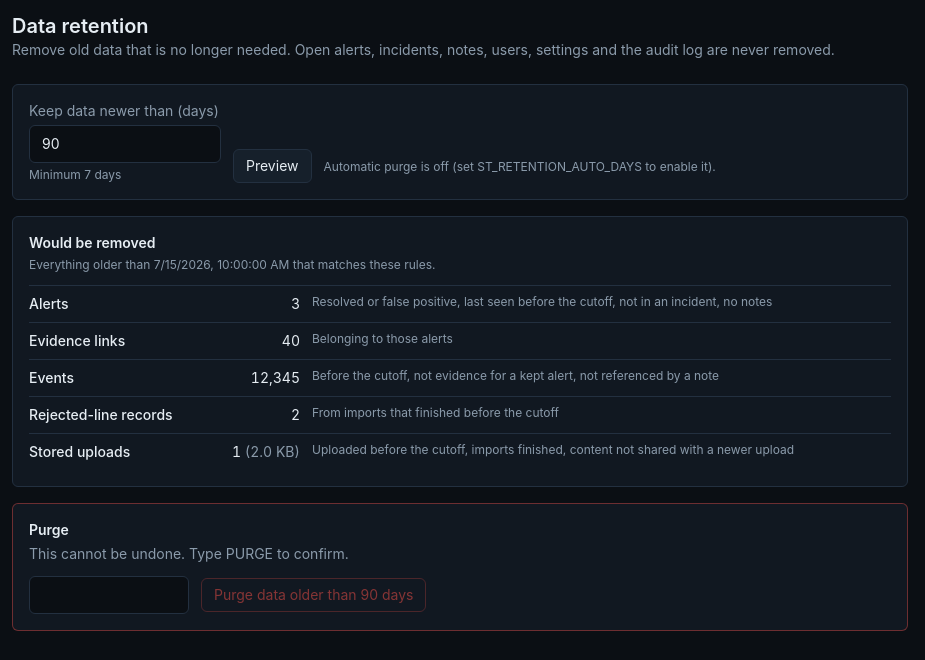
it: RetentionPage › previews and purges only after typing PURGE
Expected: the row that starts with "Events" is shown, [29,360,891,396]
Expected: the text "(2.0 KB)" is shown, [241,443,300,460]
Replace the text in the number field labelled "Keep data newer than (days) Minimum 7 days" with "30": [125, 144] box [29,125,221,163]
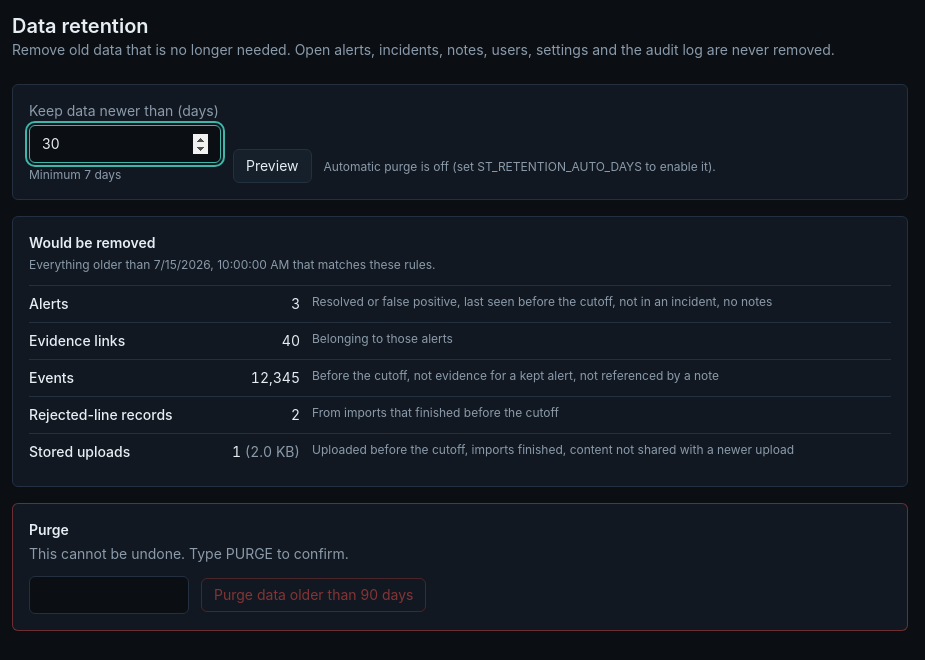
Click the button "Preview": [272, 166] box [233,149,312,183]
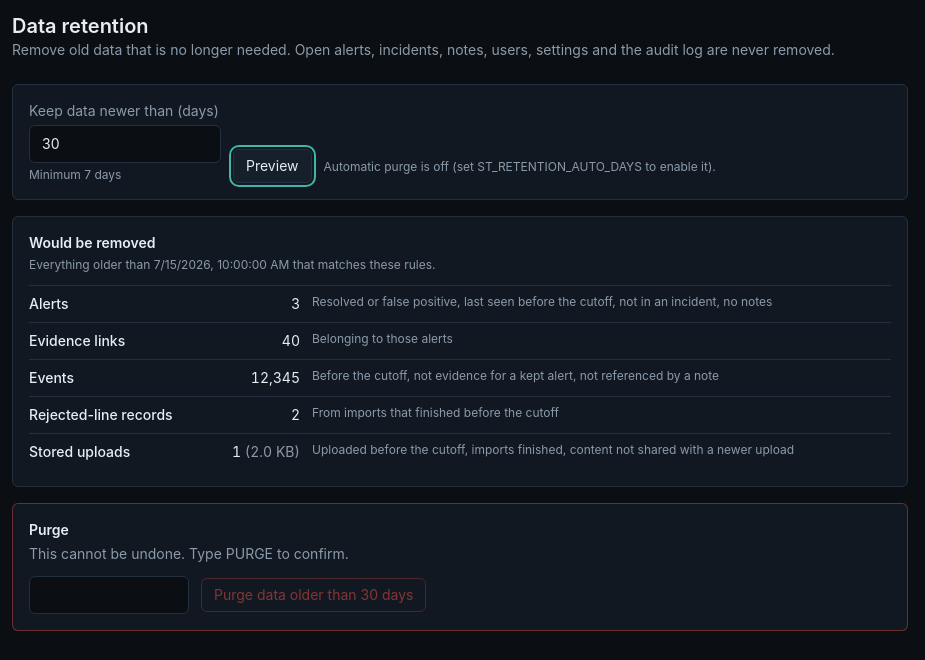
Expected: the button "Purge data older than 30 days" is disabled, [201,578,426,612]
In the field named "Type PURGE to confirm": [109, 595] box [29,576,189,614], type "purge"
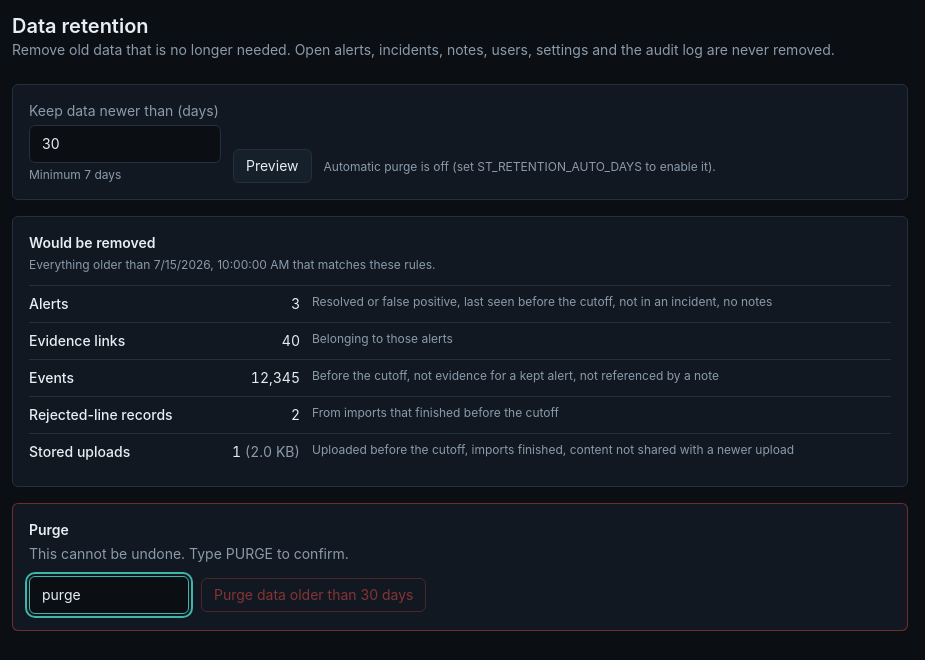
Expected: the button "Purge data older than 30 days" is disabled, [201,578,426,612]
Replace the text in the field named "Type PURGE to confirm" with "PURGE": [109, 595] box [29,576,189,614]
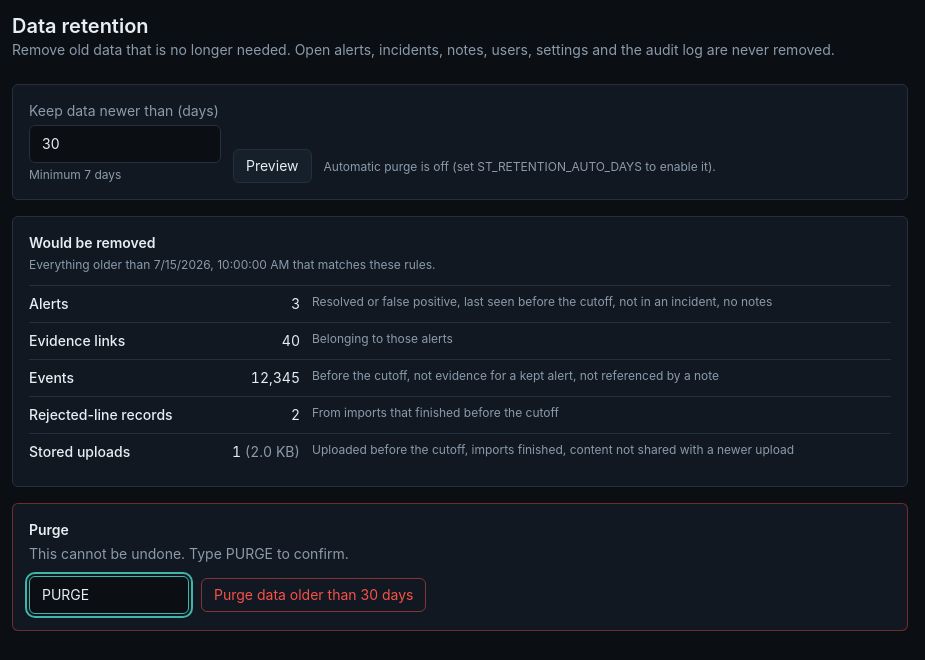
Click the button "Purge data older than 30 days": [314, 595] box [201,578,426,612]
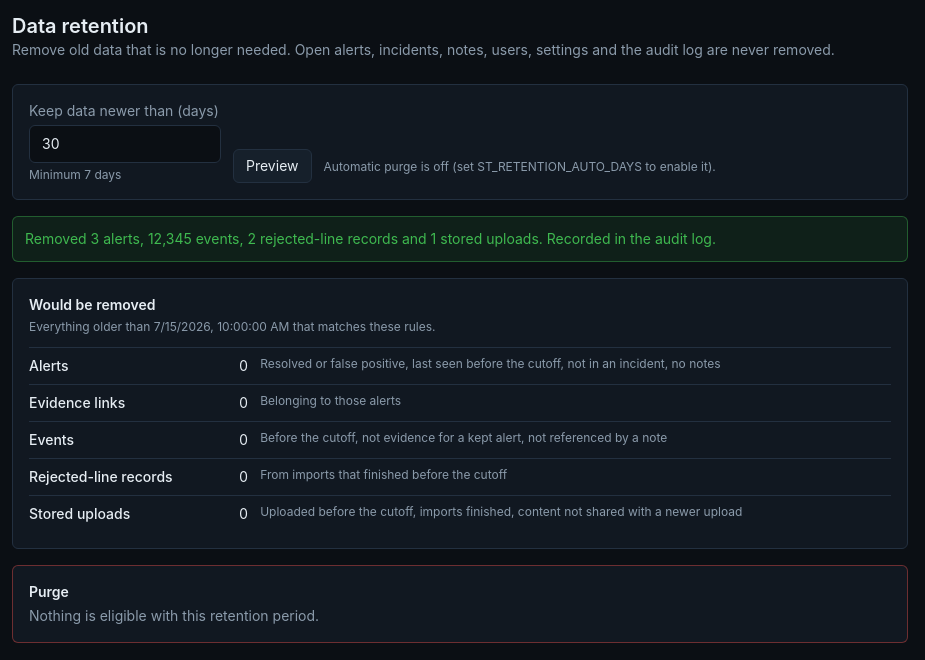
Expected: the text "Removed 3 alerts, 12,345 events" is shown, [25,230,716,247]
Expected: the text "Nothing is eligible with this retention period." is shown, [29,607,319,624]
